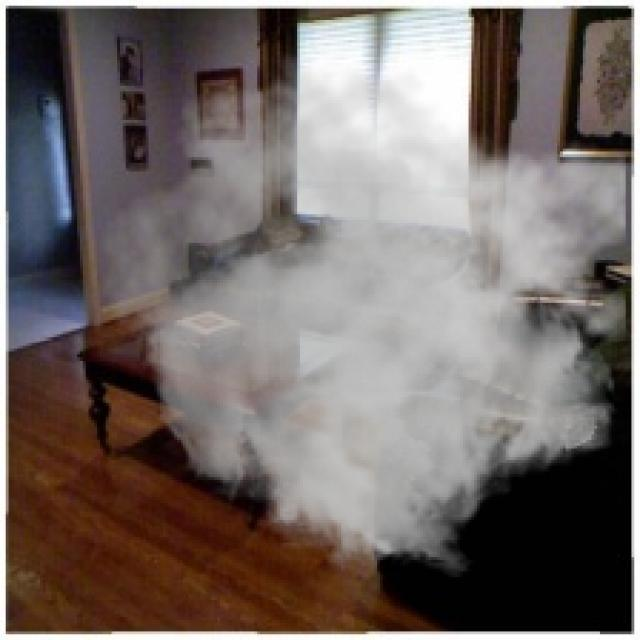Smoke: (100, 51, 626, 580)
